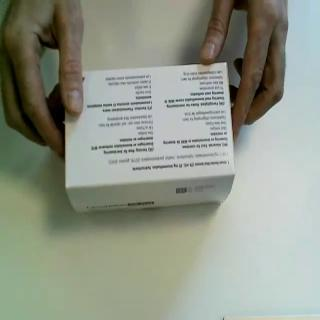levopidon25mg: (64, 61, 237, 217)
